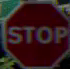Stop: (3, 9, 66, 59)
